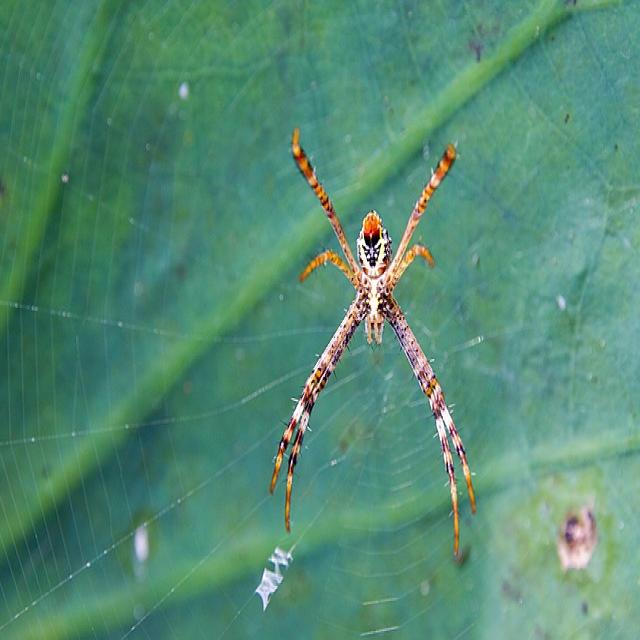spyder: (269, 129, 476, 565)
